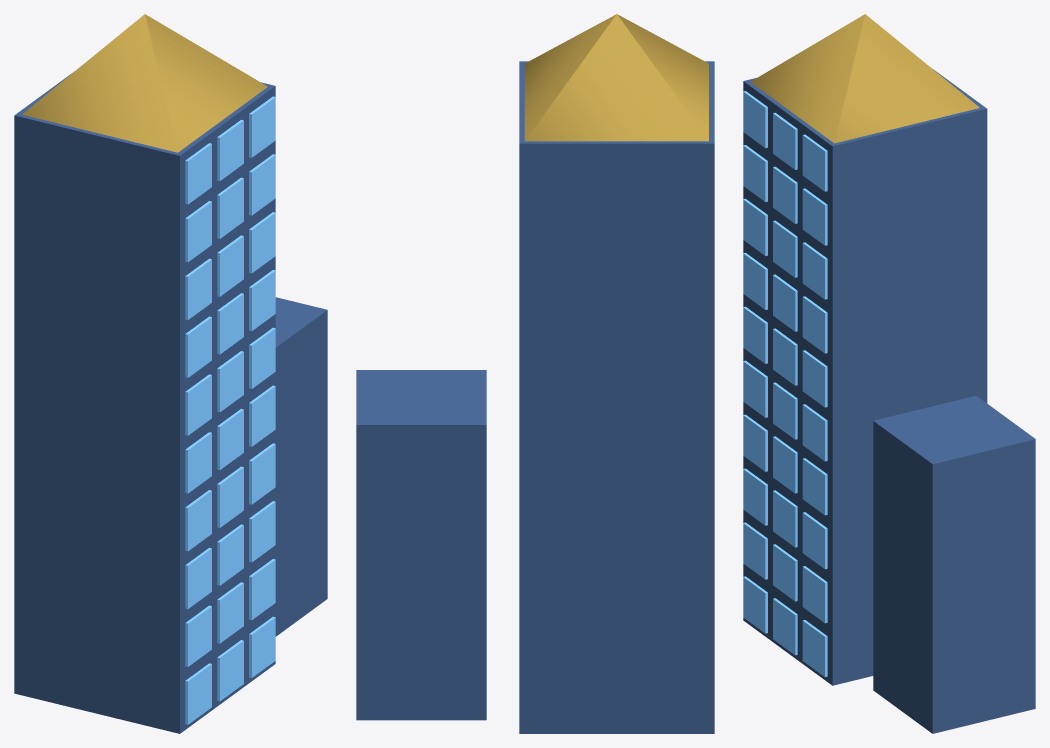
File: skyscraper.glb
3 renders of one model, left to right at view 1: azimuth 30°, elevation 25°; view 2: azimuth 150°, elevation 25°; view 3: azimuth 270°, elevation 25°, orthographic. The views are drawn at different scales.
Size of the model in its own units: 1.2 by 2.3 by 0.9835.
